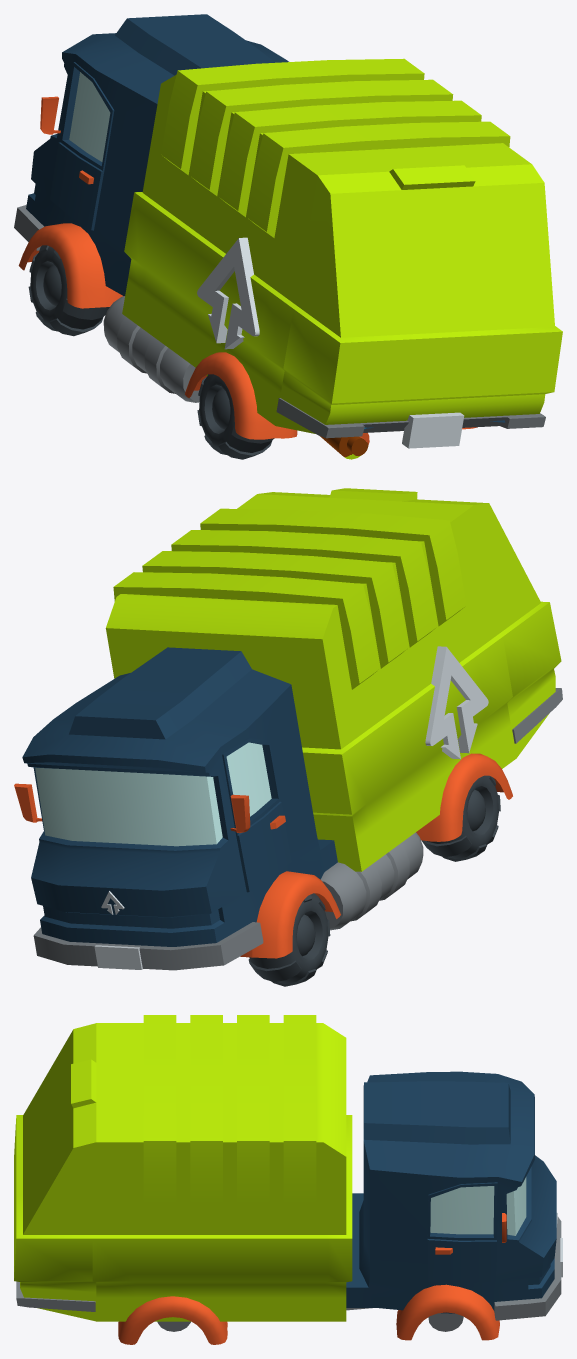
The model's file is Camión_03.fbx.
3 views of the same model, one above another, from view 1: azimuth 30°, elevation 25°; view 2: azimuth 150°, elevation 25°; view 3: azimuth 270°, elevation 25° (orthographic). The views are drawn at different scales.
Parts seen in each view (by area): view 1: Camión_03; view 2: Camión_03; view 3: Camión_03.
Part boxes in pixels (x1,y1,x2,y2): Camión_03: (14,14,562,459); Camión_03: (14,488,562,986); Camión_03: (14,1015,562,1344).
Size of the model in its own units: 456 by 489 by 942.
